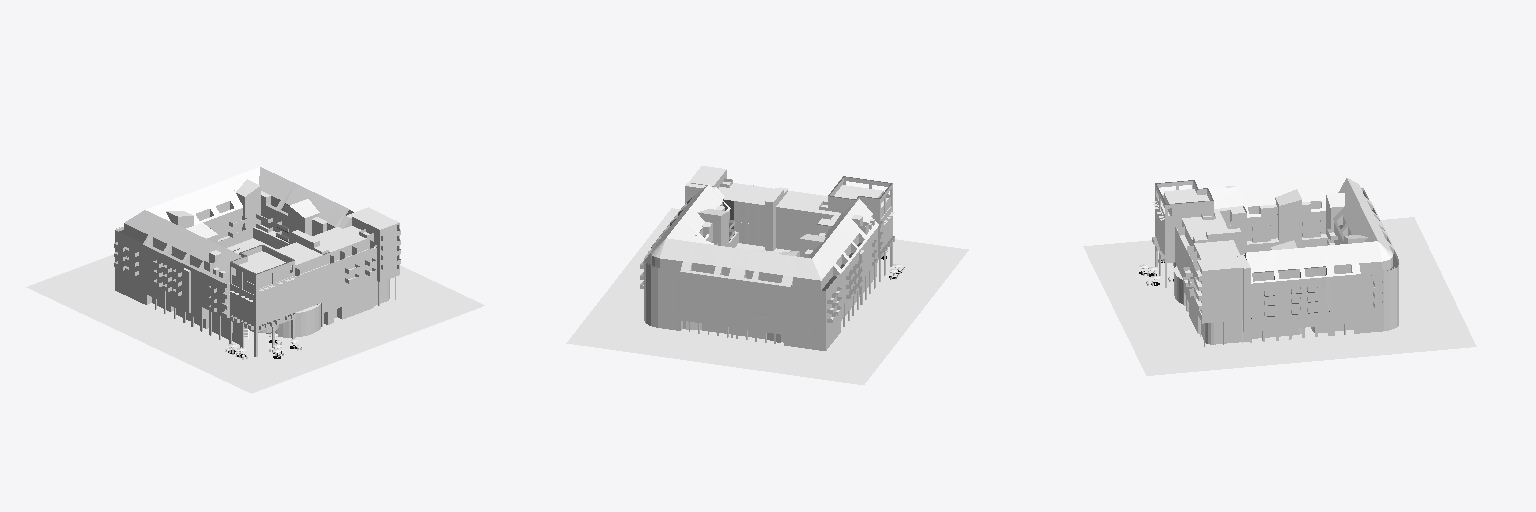
File: jakobikirchplatz2.obj
3 views of the same model, side by side, from view 1: azimuth 30°, elevation 25°; view 2: azimuth 150°, elevation 25°; view 3: azimuth 270°, elevation 25° (orthographic).
Parts seen in each view (by area): view 1: obj889, obj211472, obj24, obj482, obj672, obj112439, obj665, obj666, obj32372, obj237495, obj632, obj56394 (+7 smaller); view 2: obj889, obj24, obj211472, obj294, obj239497, obj482, obj701, obj285, obj112439, obj847, obj66402, obj632 (+8 smaller); view 3: obj889, obj211472, obj112439, obj482, obj121448, obj24, obj53, obj632, obj329, obj32372, obj847, obj238496 (+9 smaller).
Part boxes in pixels (bbox=[...]): obj889: bbox=[26, 254, 484, 393]; obj211472: bbox=[206, 167, 294, 215]; obj24: bbox=[125, 188, 217, 235]; obj482: bbox=[145, 218, 215, 271]; obj672: bbox=[201, 253, 329, 332]; obj112439: bbox=[278, 183, 349, 231]; obj665: bbox=[204, 253, 333, 312]; obj666: bbox=[231, 277, 292, 331]; obj32372: bbox=[334, 279, 389, 318]; obj237495: bbox=[217, 205, 277, 247]; obj632: bbox=[230, 232, 313, 295]; obj56394: bbox=[330, 217, 399, 319]; obj889: bbox=[566, 208, 968, 384]; obj24: bbox=[732, 249, 833, 286]; obj211472: bbox=[651, 217, 734, 277]; obj294: bbox=[732, 251, 840, 340]; obj239497: bbox=[681, 276, 731, 310]; obj482: bbox=[808, 216, 867, 271]; obj701: bbox=[776, 207, 824, 250]; obj285: bbox=[740, 284, 786, 318]; obj112439: bbox=[662, 184, 730, 239]; obj847: bbox=[640, 266, 894, 352]; obj66402: bbox=[734, 201, 764, 246]; obj632: bbox=[773, 177, 892, 250]; obj889: bbox=[1083, 217, 1476, 375]; obj211472: bbox=[1326, 211, 1394, 276]; obj112439: bbox=[1246, 246, 1330, 283]; obj482: bbox=[1241, 180, 1325, 217]; obj121448: bbox=[1251, 277, 1330, 317]; obj24: bbox=[1322, 178, 1383, 232]; obj53: bbox=[1194, 272, 1242, 323]; obj632: bbox=[1155, 181, 1240, 254]; obj329: bbox=[1247, 213, 1327, 251]; obj32372: bbox=[1187, 288, 1249, 344]; obj847: bbox=[1158, 265, 1404, 345]; obj238496: bbox=[1331, 236, 1383, 324].
Size of the model in its own units: 22.76 by 5.64 by 23.82.